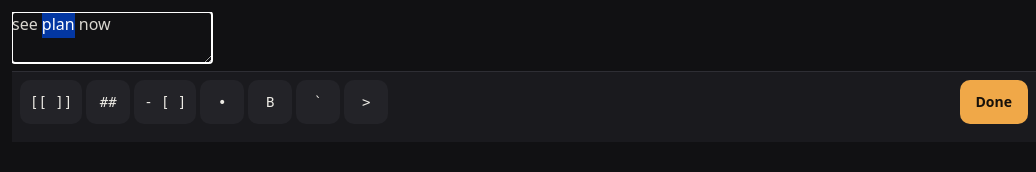
Test: the Markdown toolbar › Wiki link wraps the selection and keeps it selected
This screenshot has width=1036, height=172.
Click the button named "Wiki link": (51, 102) [20, 80, 82, 124]
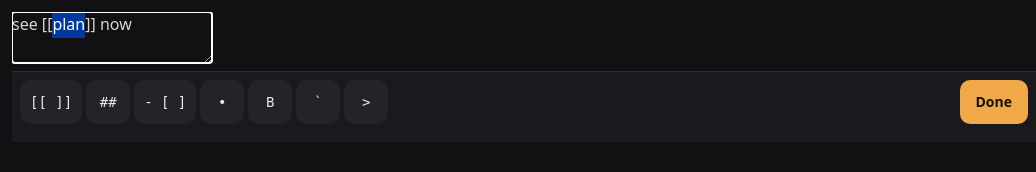
Expected: the text box named "Markdown source" holds "see [ [plan]] now", [12, 12, 212, 63]
